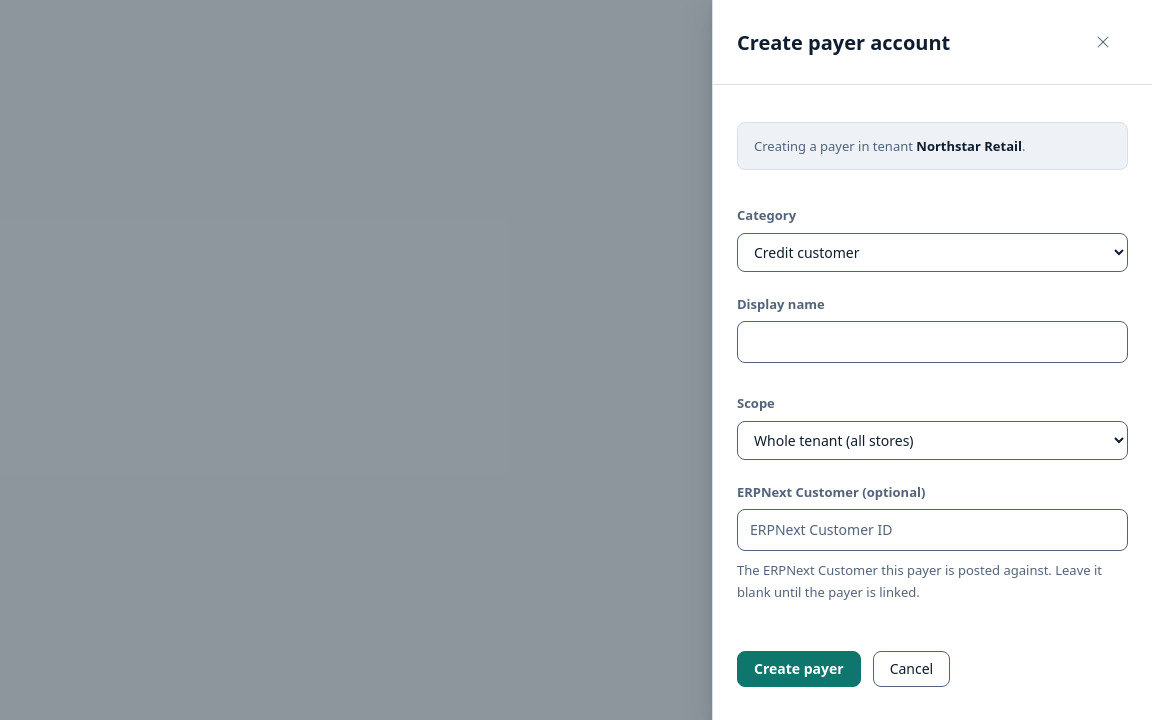
Test case: PayerCreate › 409 -> non-disclosing conflict banner
Type "MedCover Insurance" into the field labelled "Display name" at (932, 342), box [737,321,1128,363]
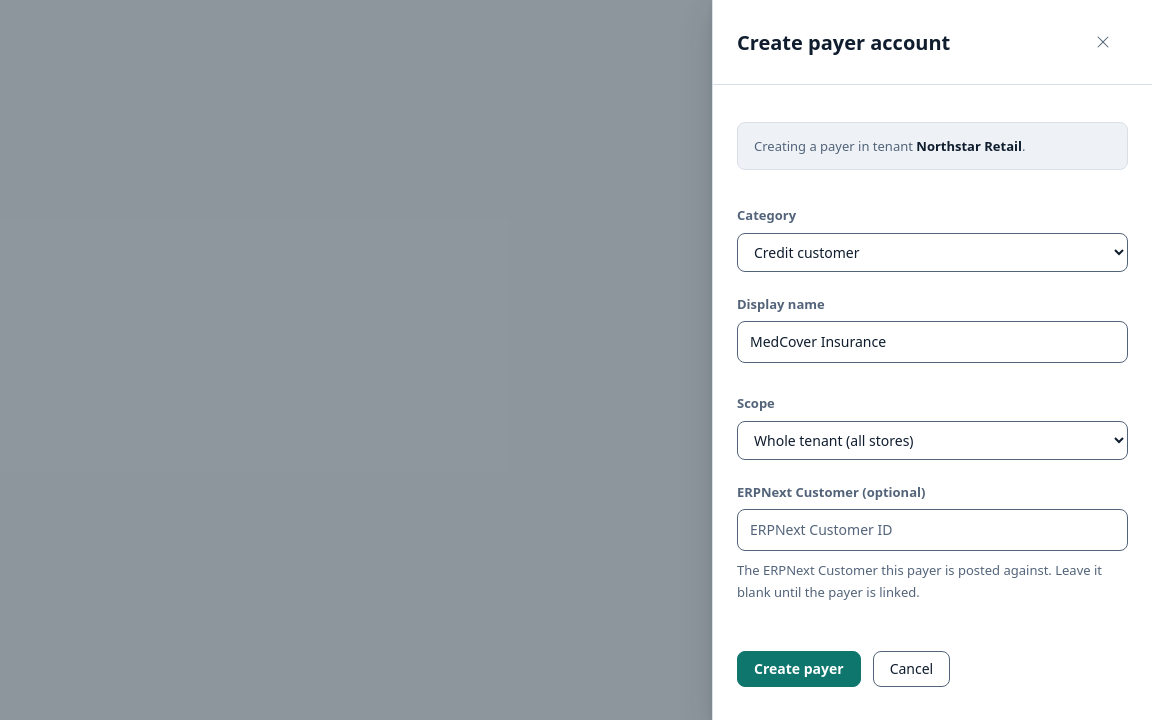
Click the button "Create payer" at (799, 669), box [737,651,861,687]
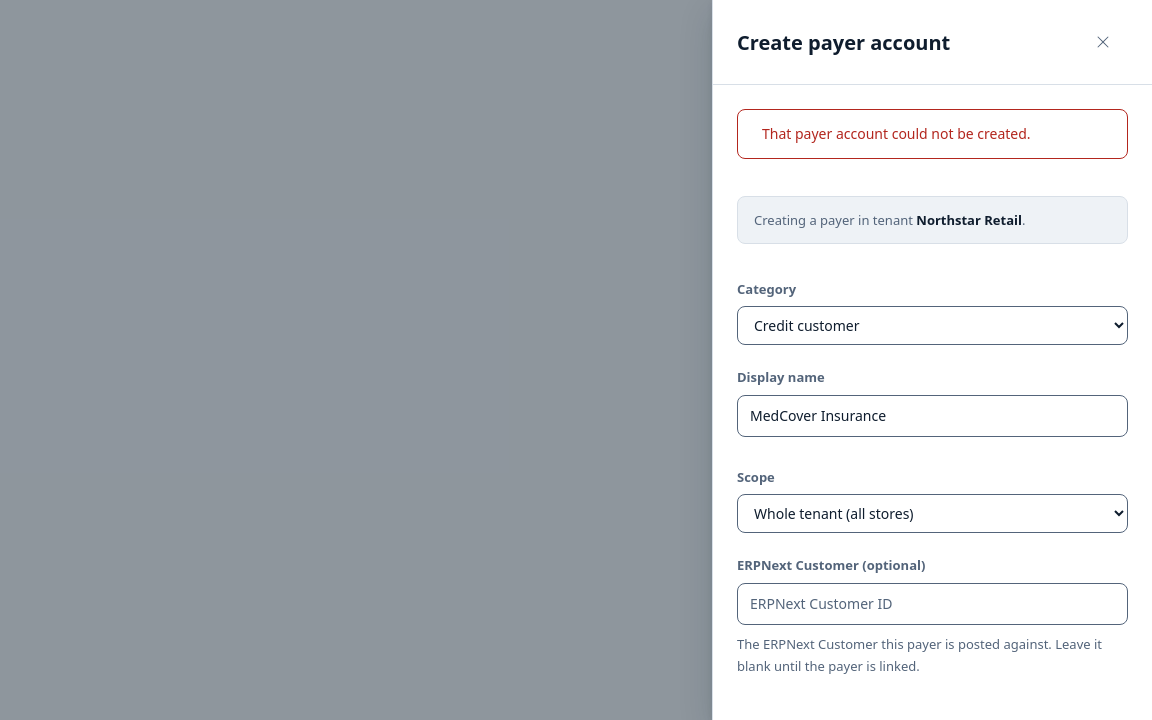
Expected: the message "That payer account could not be created." is shown, [737,109,1128,159]
Expected: the text "That payer account could not be created." is shown, [762,124,1031,143]
